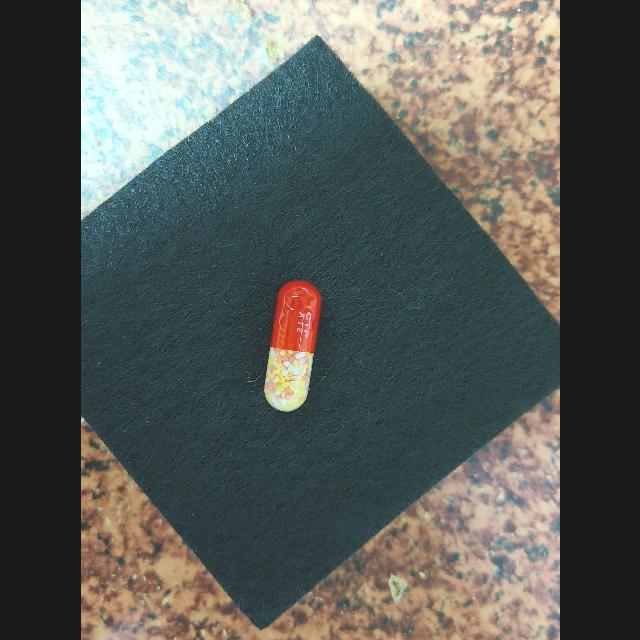Intact Capsule: (264, 280, 321, 411)
